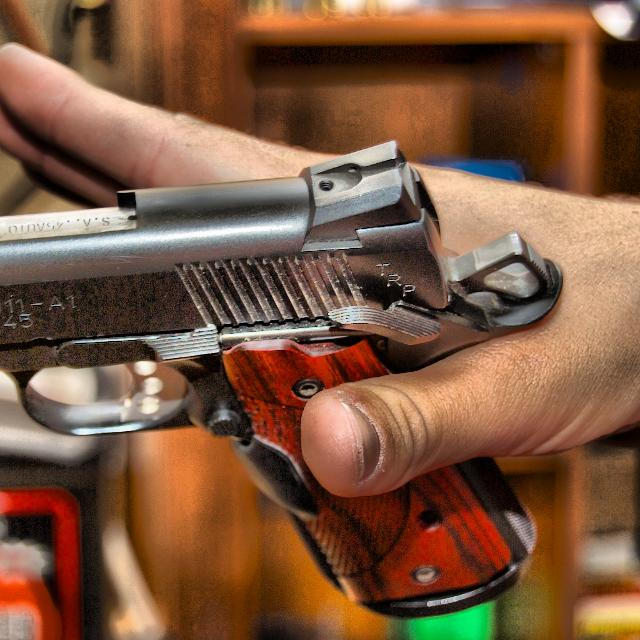pistol: (0, 136, 558, 604)
